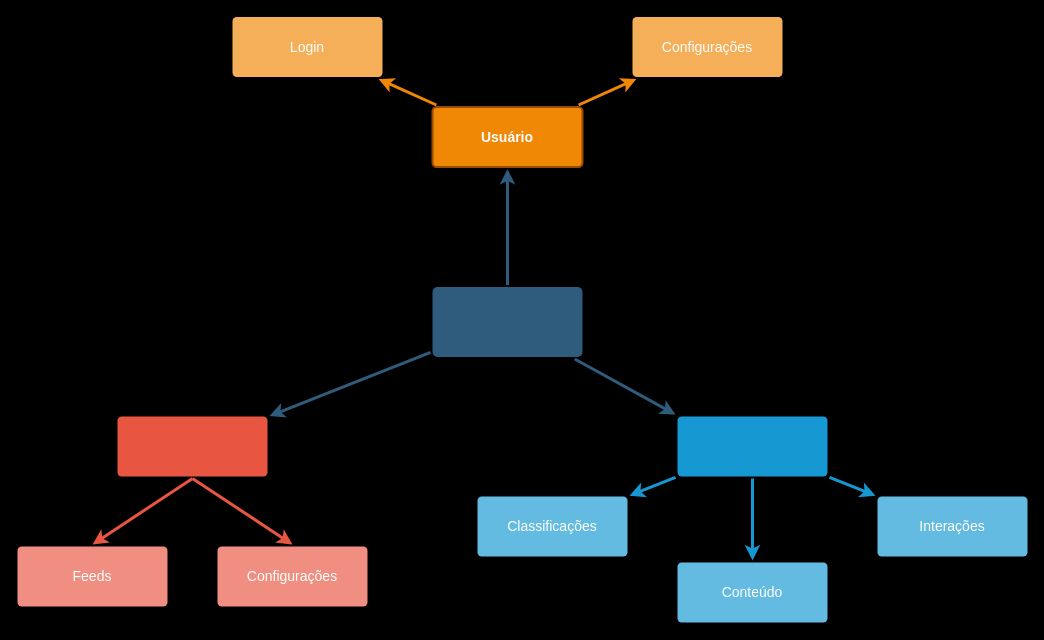
This 1044x640 diagram has some shape labels left out. Here are the shapes that lost their labels. From the top down, the centre of each, then its label:
At (x=507, y=321): "Portal Notícia".
At (x=192, y=446): "Adminitração".
At (x=752, y=446): "Notícias".
